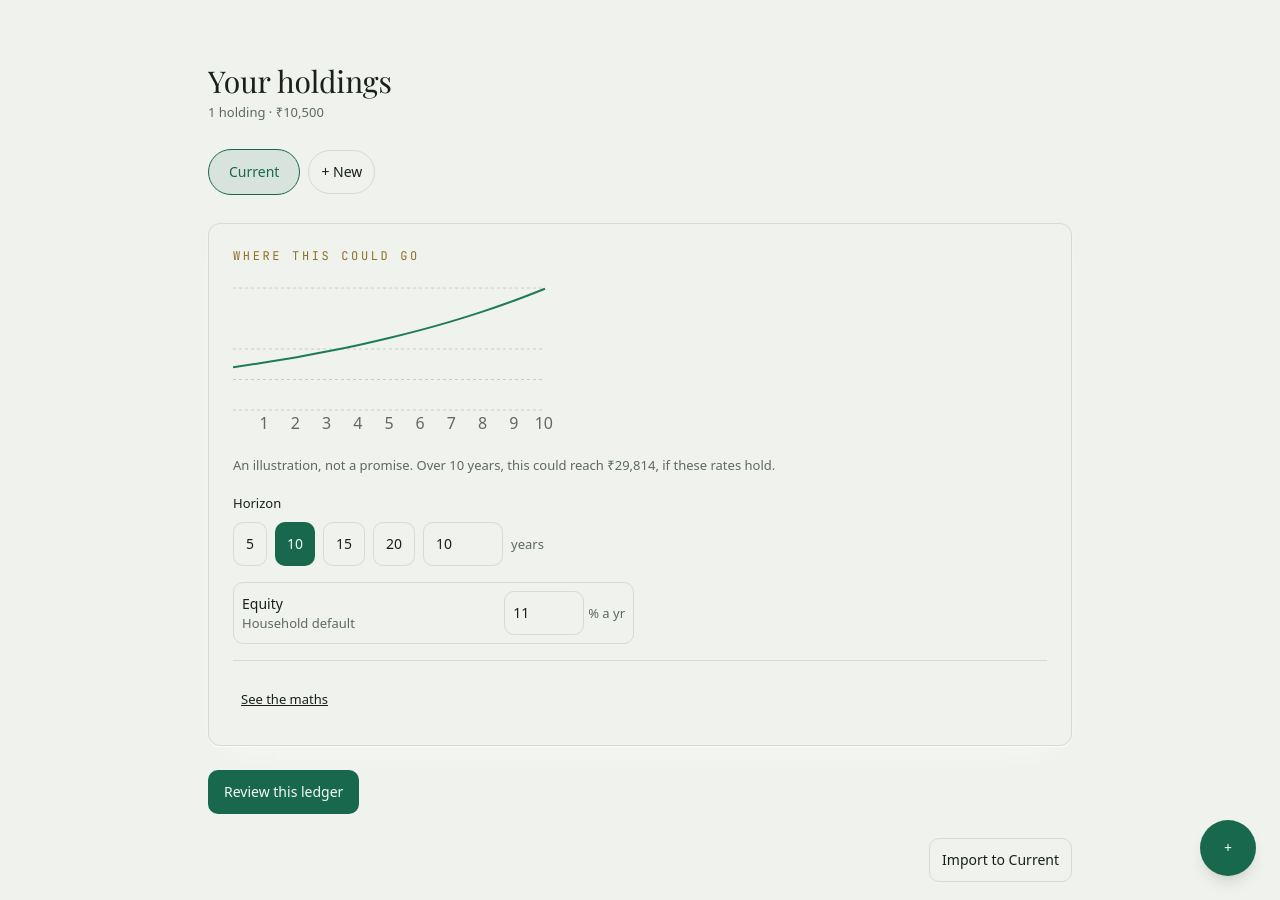
Scenario: Portfolio — mounting "Review this ledger" and wiring the counsel path (M4) › sends a real counsel POST on confirm, with this ledger's id, and shows the result
The image size is (1280, 900).
Click the button "Review this ledger" at (284, 792), box left=208, top=770, right=359, bottom=814
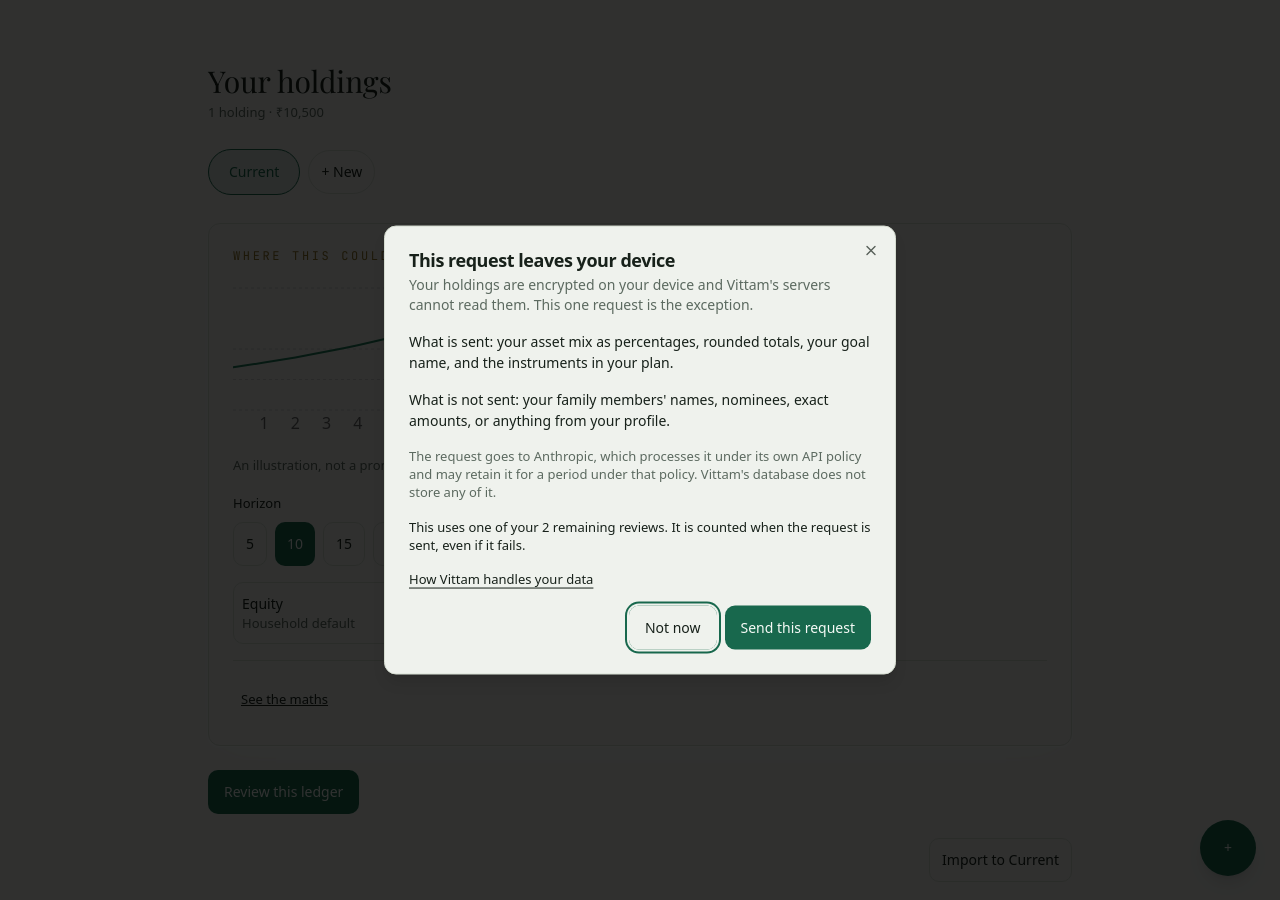
Click the button "Send this request" at (798, 628), box left=724, top=606, right=871, bottom=650
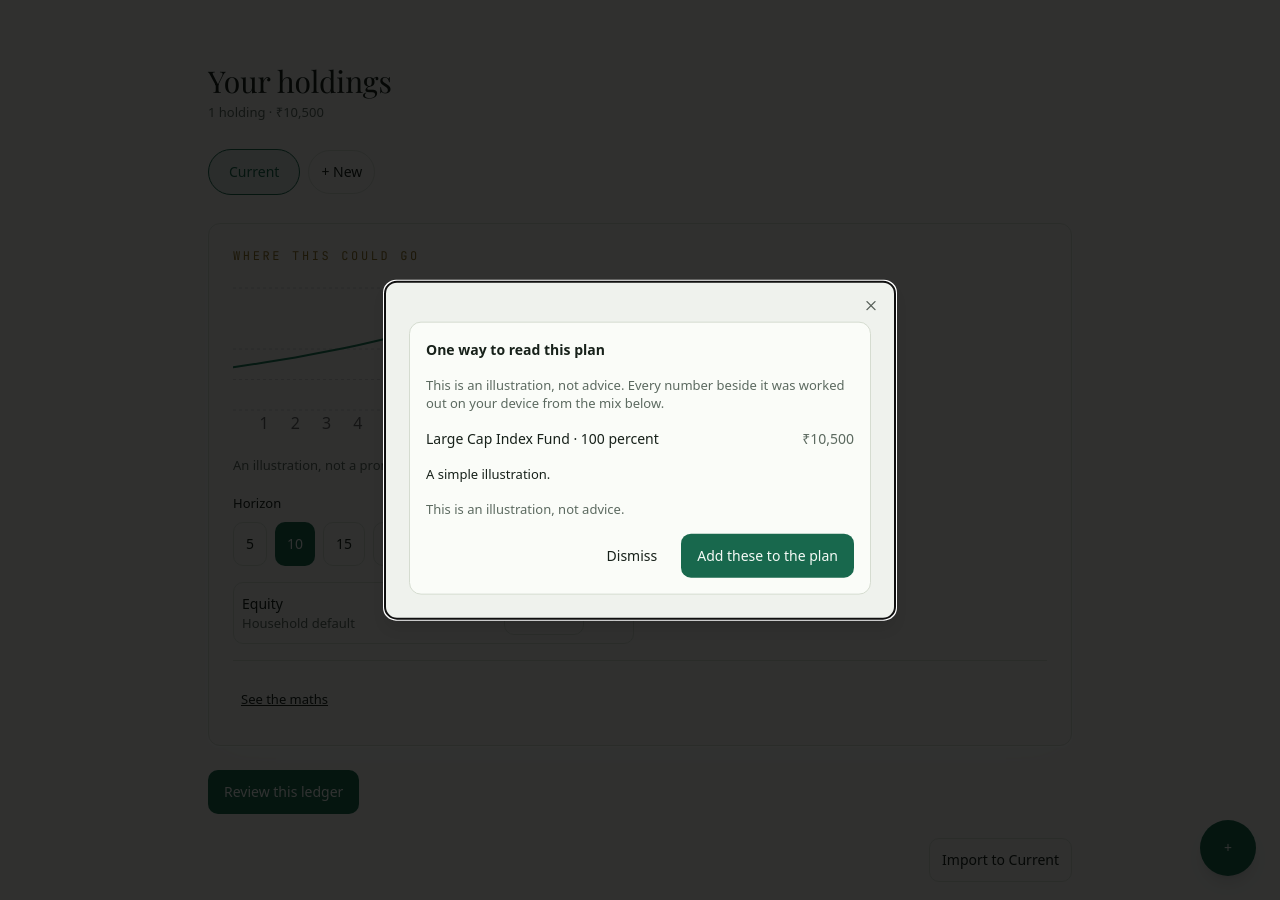
Check: the list with test id "ai-suggestion-allocations" is shown, box left=426, top=428, right=854, bottom=449
